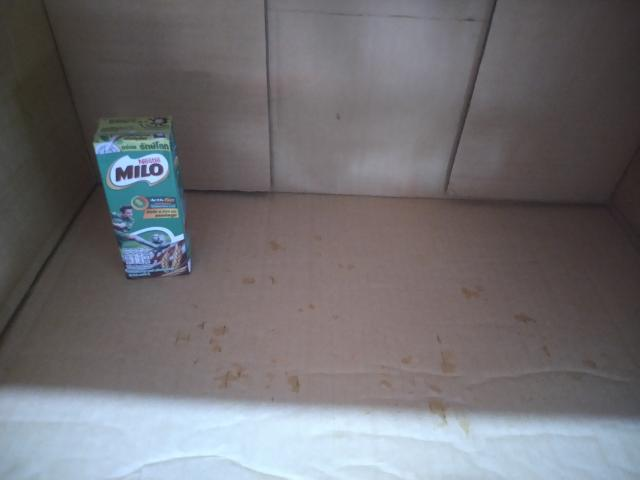drink_box: (79, 103, 205, 299)
